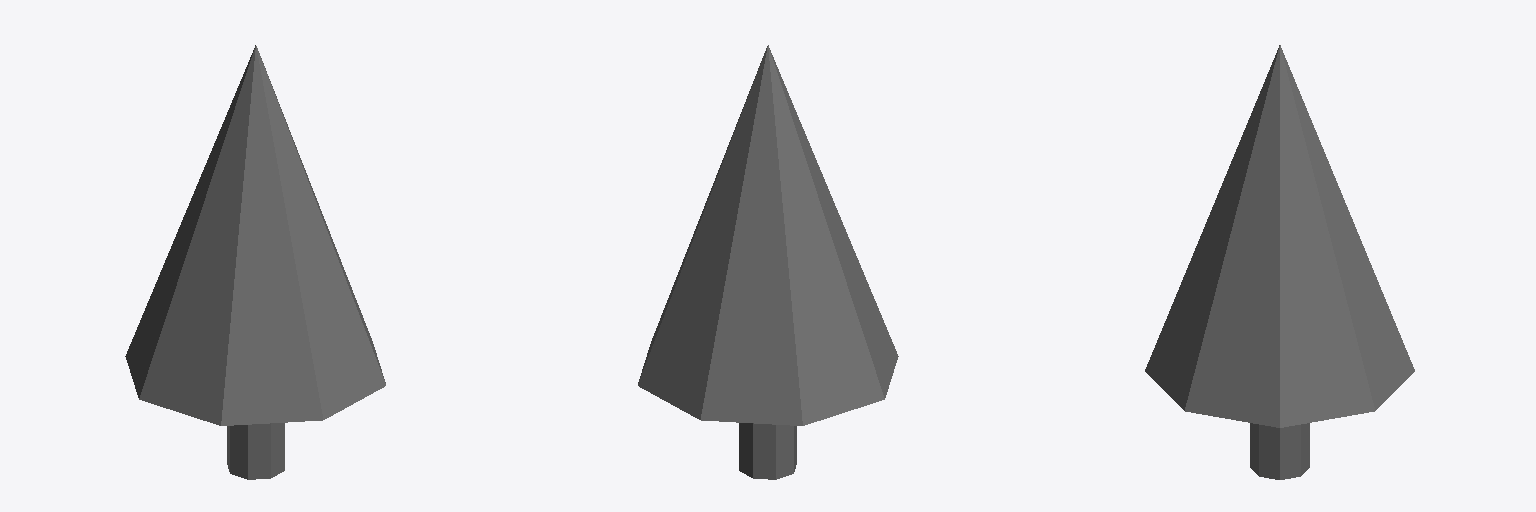
Rendered from TreeS.obj.
3 views of the same model, side by side, from view 1: azimuth 30°, elevation 25°; view 2: azimuth 150°, elevation 25°; view 3: azimuth 270°, elevation 25° (orthographic).
Visible parts, largest first — view 1: pCone1; view 2: pCone1; view 3: pCone1.
Part boxes in pixels (x1,y1,x2,y2): pCone1: (125, 45, 385, 479); pCone1: (638, 45, 898, 479); pCone1: (1145, 45, 1414, 479).
Bounding box in the file's own units: 6 × 10.37 × 6.